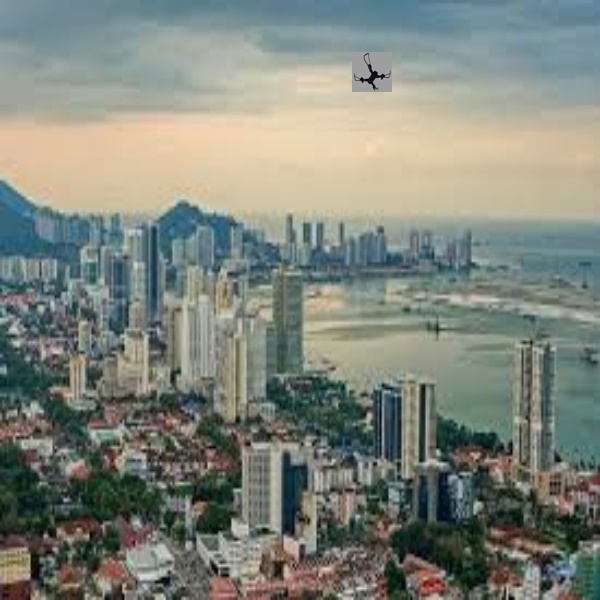drone: (352, 48, 393, 93)
